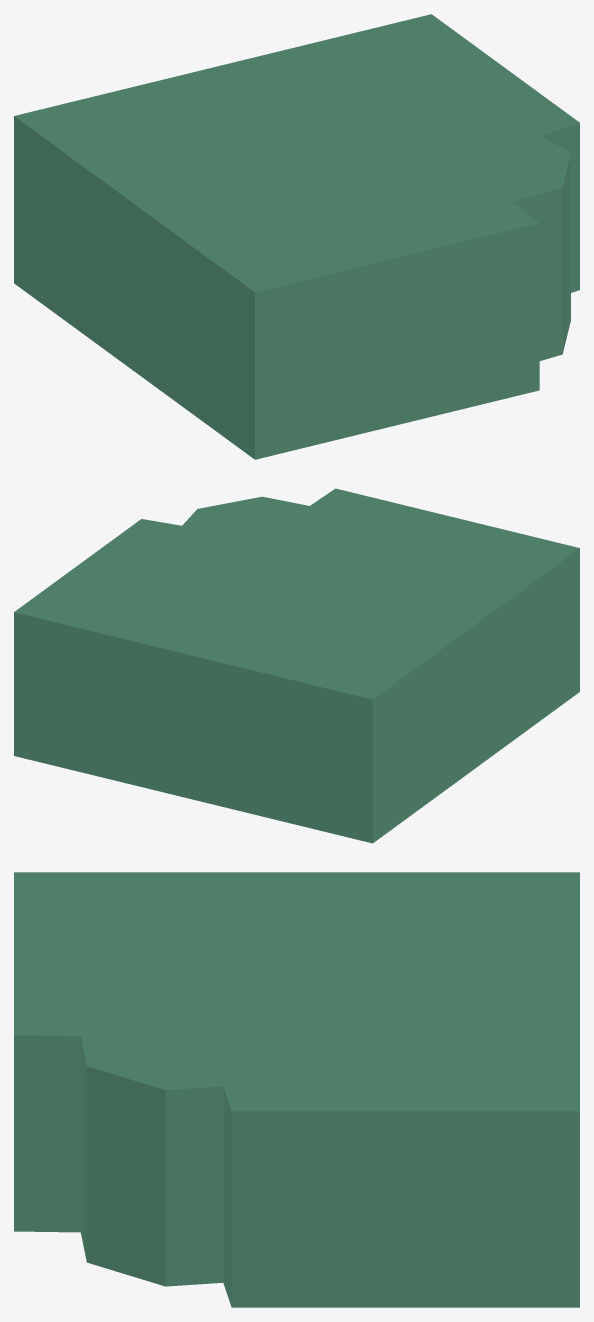
Rendered from map.glb.
3 views of the same model, one above another, from view 1: azimuth 30°, elevation 25°; view 2: azimuth 150°, elevation 25°; view 3: azimuth 270°, elevation 25° (orthographic). The views are drawn at different scales.
Parts seen in each view (by area): view 1: Cube; view 2: Cube; view 3: Cube.
Boxes of the visible parts, bbox=[...] form: Cube: bbox=[14, 14, 579, 459]; Cube: bbox=[14, 488, 579, 843]; Cube: bbox=[14, 872, 579, 1307].
Size of the model in its own units: 378 by 145 by 378.
